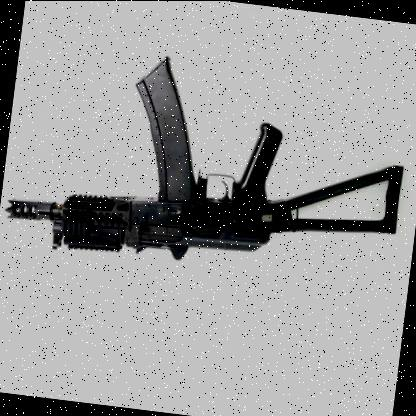rifle: (0, 17, 416, 296)
